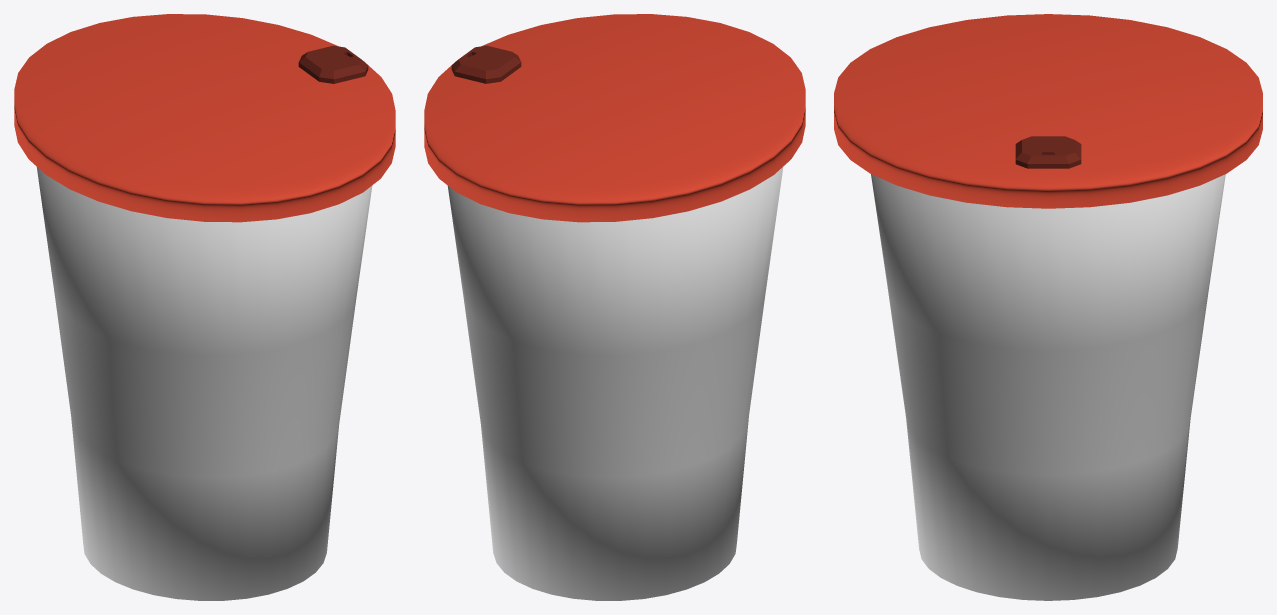
The model's file is CoffeeCup.fbx.
The picture shows the model from 3 angles, left to right: view 1: azimuth 30°, elevation 25°; view 2: azimuth 150°, elevation 25°; view 3: azimuth 270°, elevation 25°; orthographic projection.
Parts seen in each view (by area): view 1: Cylinder, Cylinder.001, Cube; view 2: Cylinder, Cylinder.001, Cube; view 3: Cylinder, Cylinder.001, Cube.
Part boxes in pixels (left/top/right/bottom): Cylinder: left=36, top=167, right=372, bottom=600; Cylinder.001: left=14, top=14, right=395, bottom=222; Cube: left=298, top=45, right=368, bottom=83; Cylinder: left=447, top=167, right=783, bottom=600; Cylinder.001: left=424, top=14, right=805, bottom=222; Cube: left=451, top=45, right=521, bottom=83; Cylinder: left=871, top=174, right=1225, bottom=600; Cylinder.001: left=834, top=14, right=1262, bottom=208; Cube: left=1015, top=136, right=1081, bottom=168.
Size of the model in its own units: 155 by 213 by 178.
